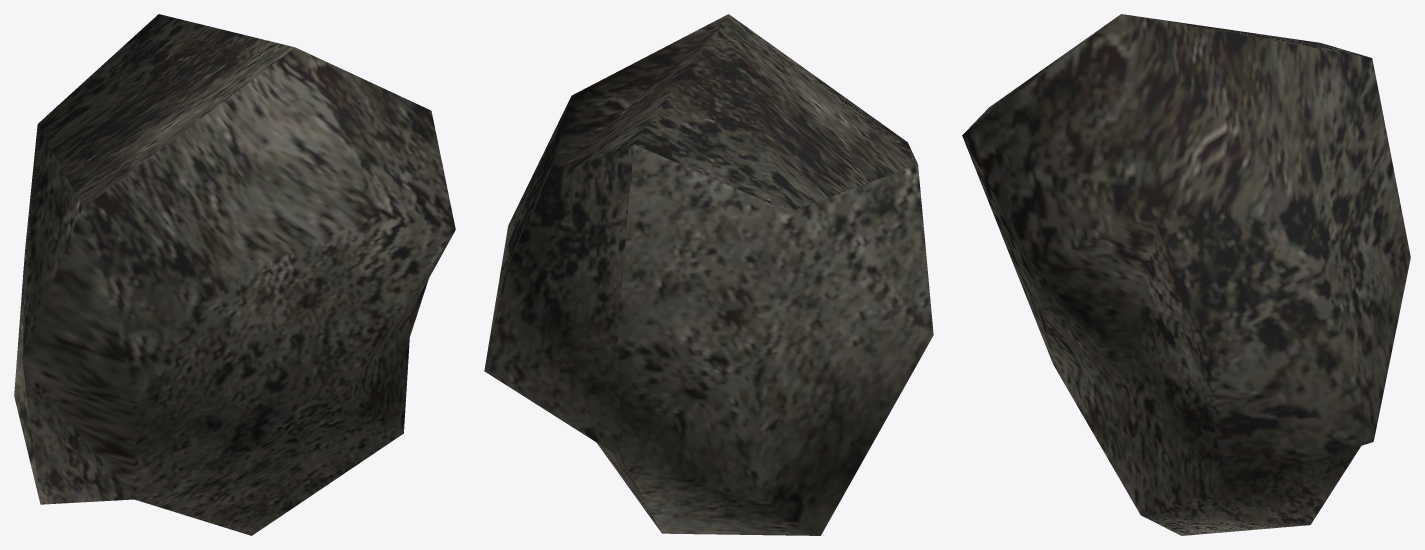
Rendered from fx_debris_stone_01_LOD0.obj.
The picture shows the model from 3 angles, left to right: view 1: azimuth 30°, elevation 25°; view 2: azimuth 150°, elevation 25°; view 3: azimuth 270°, elevation 25°; orthographic projection. The views are drawn at different scales.
Visible parts, largest first — view 1: mtl_fx_dest_atlas; view 2: mtl_fx_dest_atlas; view 3: mtl_fx_dest_atlas.
Boxes of the visible parts, <box> form: mtl_fx_dest_atlas: <box>14,14,455,535</box>; mtl_fx_dest_atlas: <box>484,14,933,535</box>; mtl_fx_dest_atlas: <box>962,14,1410,535</box>.
Bounding box in the file's own units: 10.29 × 11.16 × 8.57.
